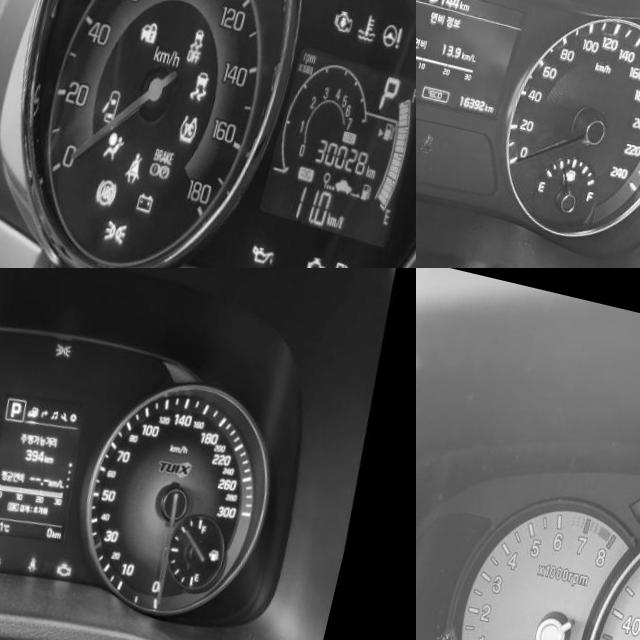Doors: (117, 73, 138, 113)
Engine cooling system: (364, 0, 390, 20)
Low fuel level: (351, 235, 374, 268)
SideLamp: (123, 203, 151, 234), (63, 325, 82, 343)
